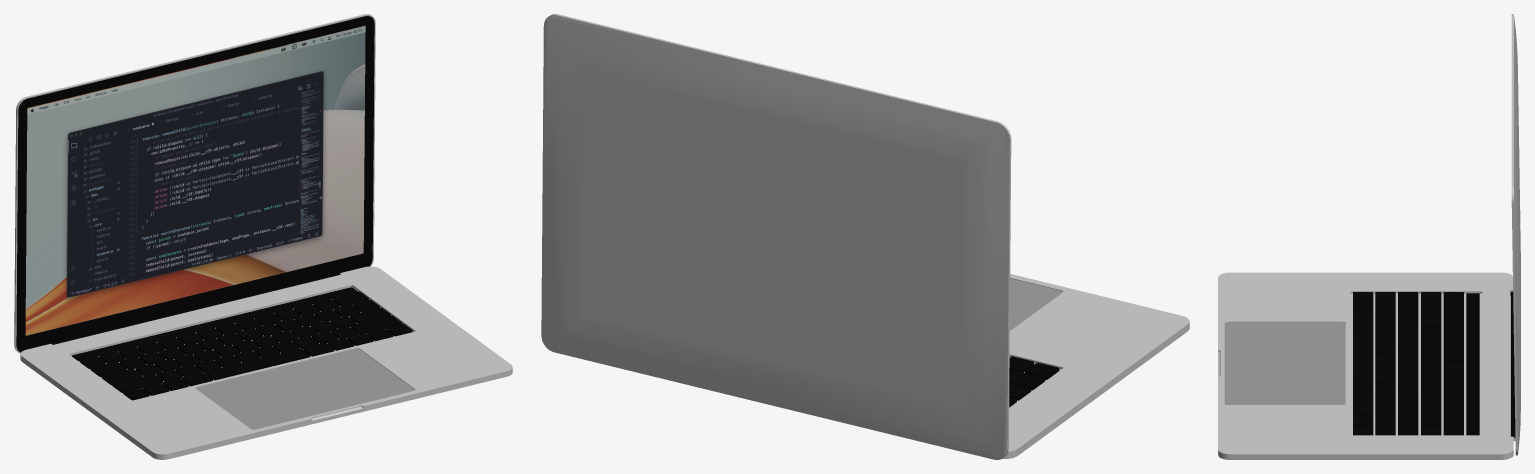
File: macbook_pro.glb
3 renders of one model, left to right at view 1: azimuth 30°, elevation 25°; view 2: azimuth 150°, elevation 25°; view 3: azimuth 270°, elevation 25°, orthographic. The views are drawn at different scales.
Visible parts, largest first — view 1: screen, base, keyboard, touchbar; view 2: screen, base, keyboard; view 3: base, keyboard, screen, touchbar.
Part boxes in pixels (x1,y1,x2,y2): screen: [14, 14, 375, 353]; base: [20, 266, 512, 459]; keyboard: [79, 291, 412, 400]; touchbar: [72, 287, 358, 360]; screen: [541, 14, 1011, 459]; base: [1002, 274, 1189, 458]; keyboard: [1009, 356, 1059, 407]; base: [1218, 272, 1513, 459]; keyboard: [1353, 292, 1463, 435]; screen: [1510, 14, 1520, 455]; touchbar: [1466, 293, 1479, 435].
Bounding box in the file's own units: 8.81 × 6.16 × 6.2.
6 materials, 1 textured.
